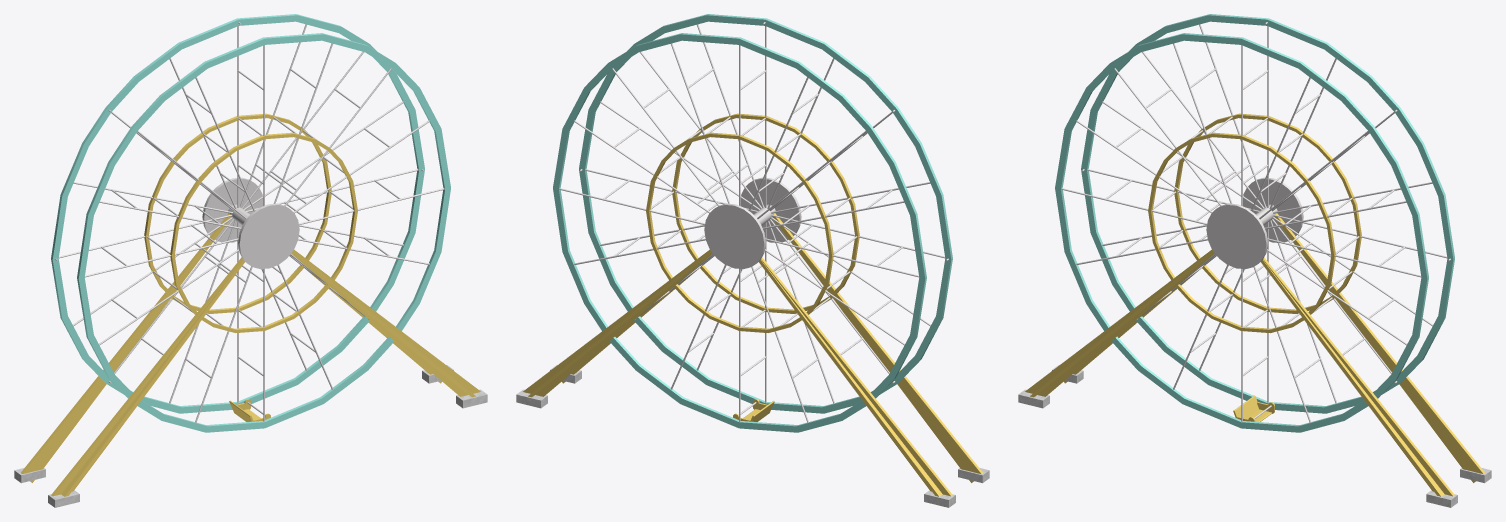
Rendered from Ferris wheel.fbx.
The picture shows the model from 3 angles, left to right: view 1: azimuth 30°, elevation 25°; view 2: azimuth 150°, elevation 25°; view 3: azimuth 330°, elevation 25°; orthographic projection.
Parts seen in each view (by area): view 1: fw 1, fw2; view 2: fw 1, fw2; view 3: fw 1, fw2, fw bench.
Part boxes in pixels (bbox=[...]): fw 1: bbox=[51, 14, 450, 432]; fw2: bbox=[14, 213, 487, 507]; fw 1: bbox=[553, 14, 952, 432]; fw2: bbox=[516, 213, 989, 507]; fw 1: bbox=[1055, 14, 1454, 432]; fw2: bbox=[1018, 213, 1491, 507]; fw bench: bbox=[1233, 395, 1274, 421].
Size of the model in its own units: 14404 by 13216 by 2350.
